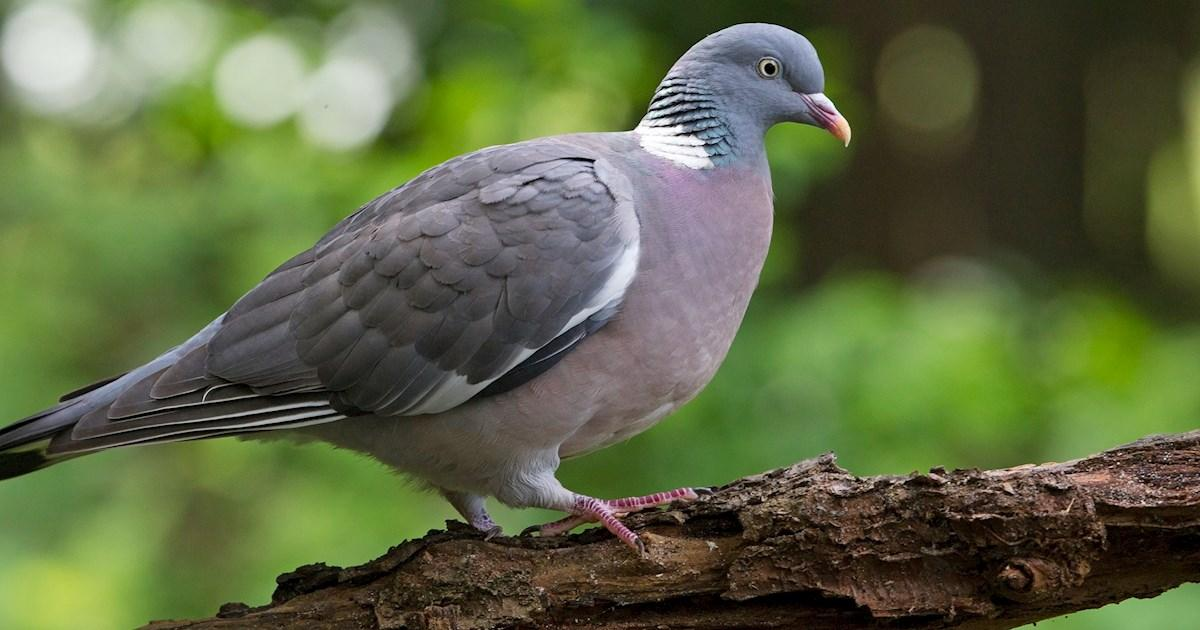Flying Rat: (8, 25, 827, 596)
